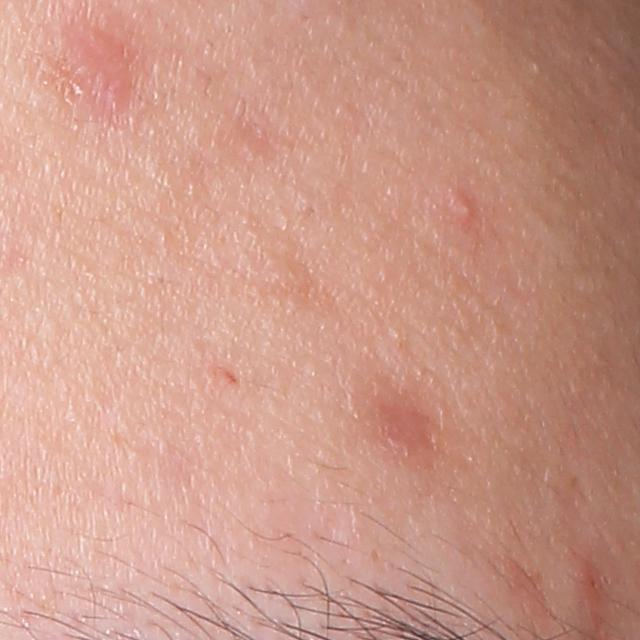papule: (58, 18, 137, 114), (452, 194, 479, 230)
